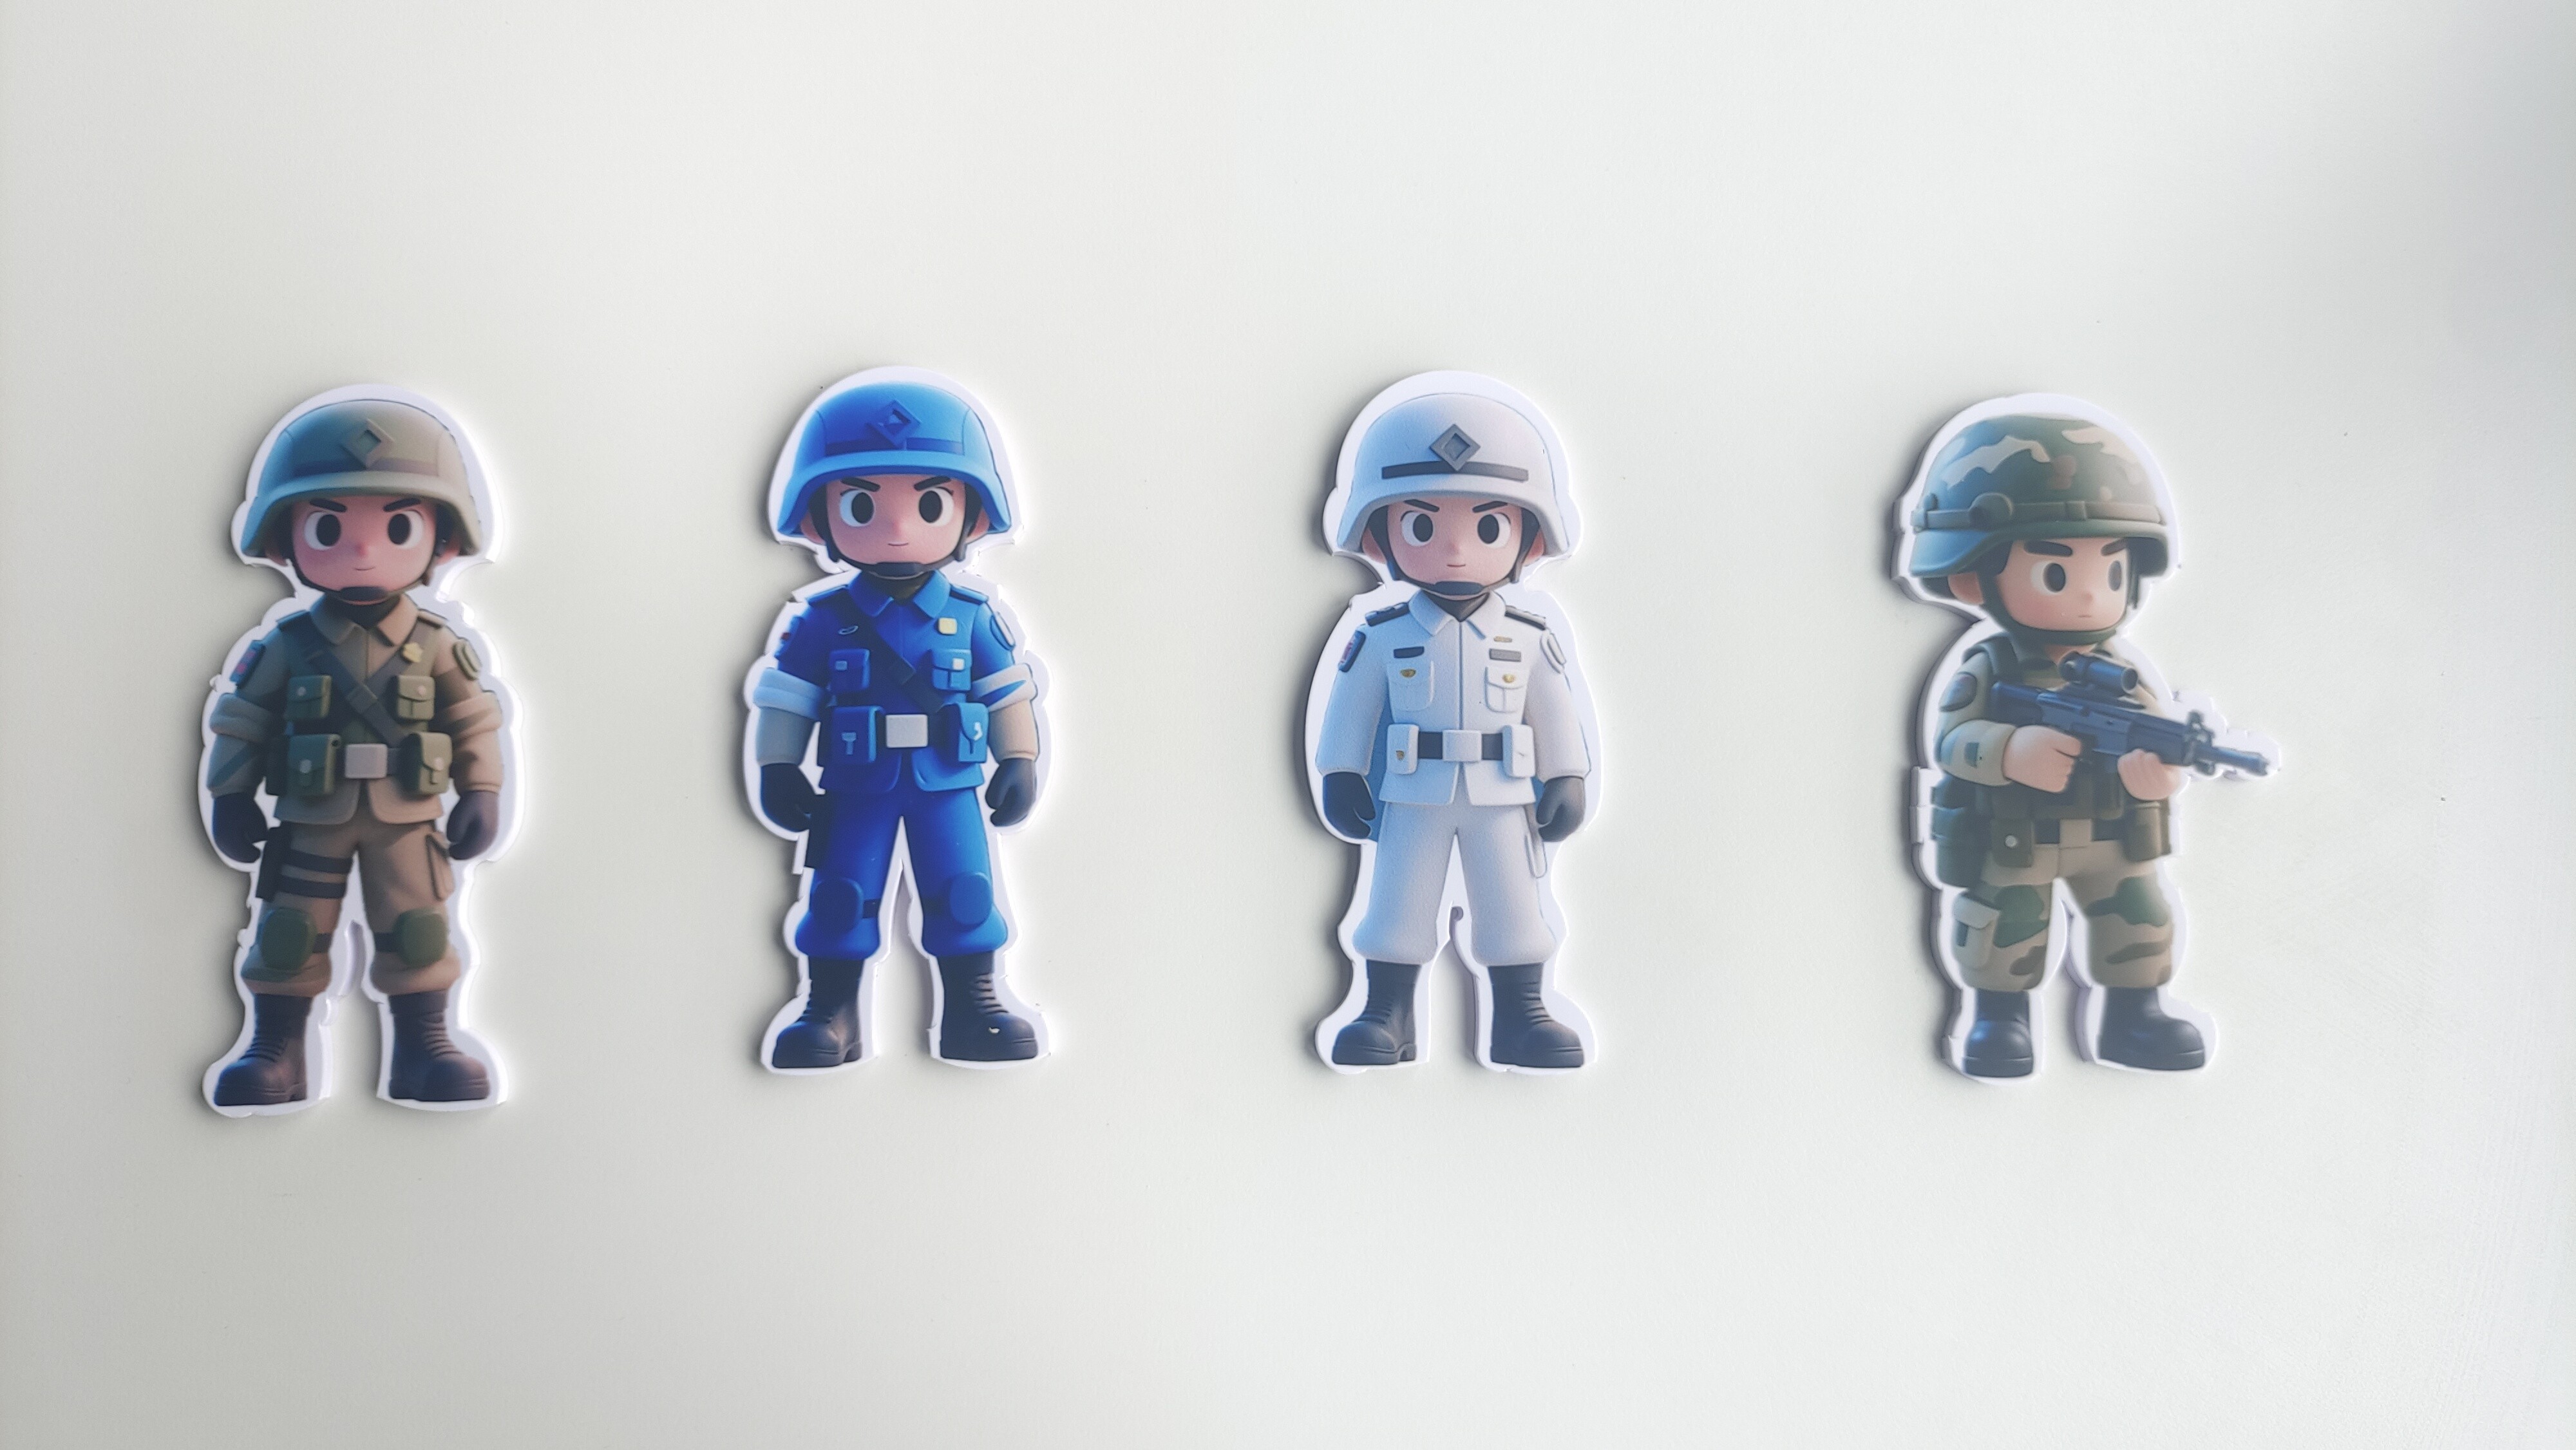enemy2: (729, 582, 1058, 1084)
friend: (188, 612, 540, 1116), (1886, 635, 2226, 1084)
hostage: (1295, 592, 1608, 1088)
